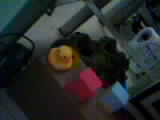duck: (41, 39, 85, 69)
